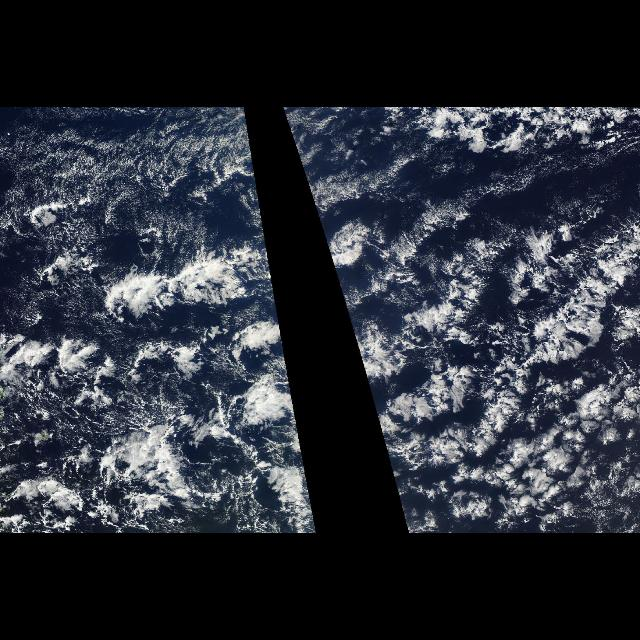Fish: (387, 190, 639, 422)
Flower: (322, 217, 630, 528), (99, 233, 305, 462)
Gravel: (21, 378, 240, 534)
Sugar: (281, 110, 619, 240), (1, 107, 266, 240)
